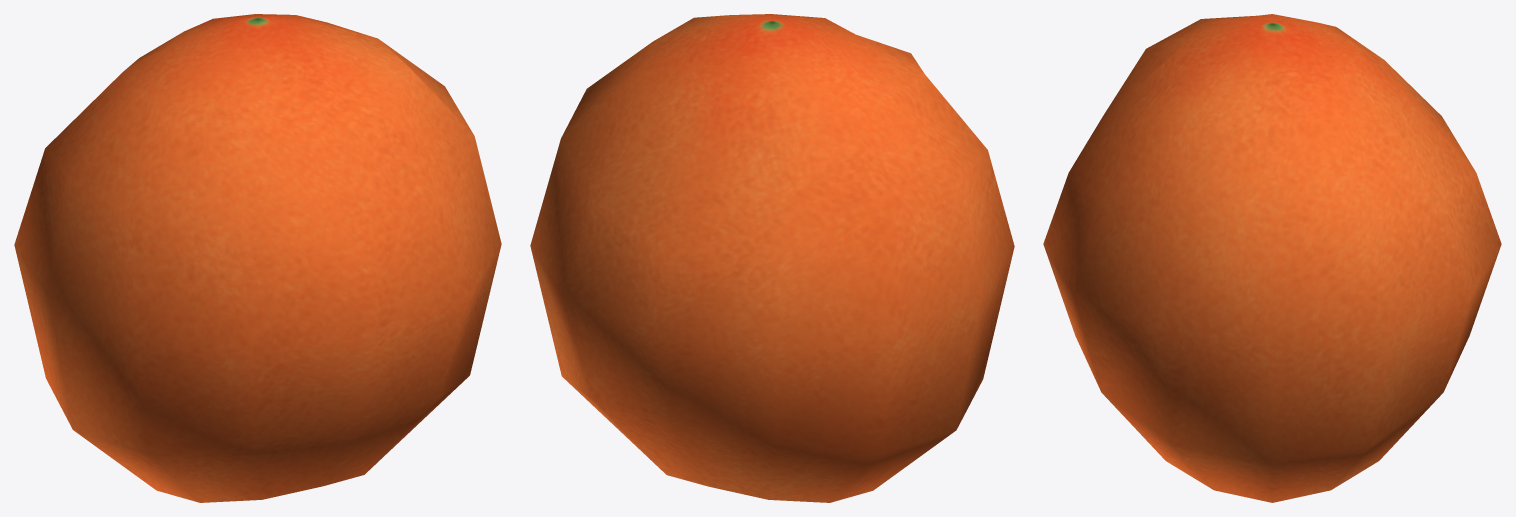
The model's file is orangeremove.fbx.
3 renders of one model, left to right at view 1: azimuth 30°, elevation 25°; view 2: azimuth 150°, elevation 25°; view 3: azimuth 270°, elevation 25°, orthographic. The views are drawn at different scales.
Visible parts, largest first — view 1: Orange; view 2: Orange; view 3: Orange.
Part boxes in pixels (box(x1,y1,x2,y2)): Orange: box(14, 14, 501, 502); Orange: box(530, 14, 1014, 502); Orange: box(1043, 14, 1501, 502).
Bounding box in the file's own units: 48.34 × 50.98 × 47.34.
